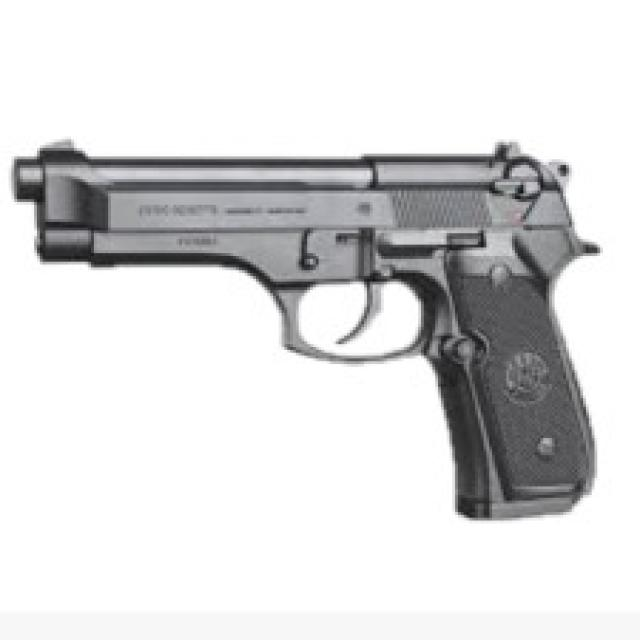pistol: (3, 132, 611, 523)
